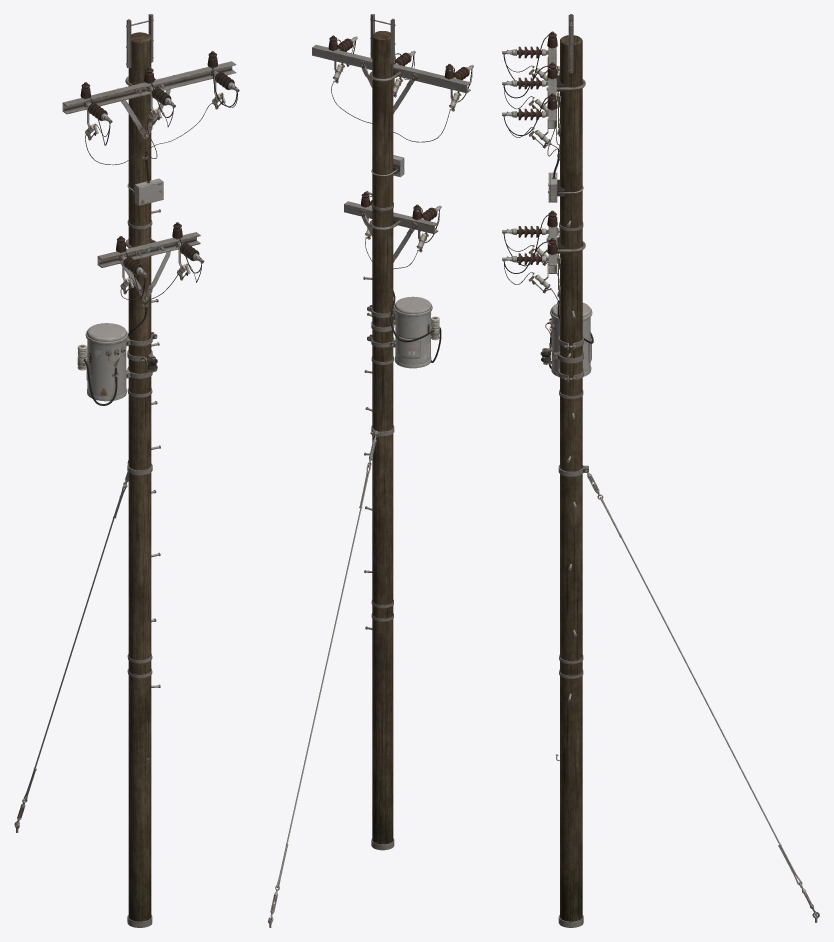
File: pole-transformer-double.glb
3 views of the same model, side by side, from view 1: azimuth 30°, elevation 25°; view 2: azimuth 150°, elevation 25°; view 3: azimuth 270°, elevation 25° (orthographic). The views are drawn at different scales.
Visible parts, largest first — view 1: preset_01_pole, preset_01_connection_large_02, preset_01_transformer_01, preset_01_connection_small_02, preset_01_fastener, preset_01_fuse_02, preset_01_transformer_02, preset_01_cap, preset_01_fuse_01; view 2: preset_01_pole, preset_01_transformer_01, preset_01_connection_large_02, preset_01_connection_small_02, preset_01_fastener, preset_01_fuse_02; view 3: preset_01_pole, preset_01_connection_large_02, preset_01_connection_small_02, preset_01_transformer_01, preset_01_fastener, preset_01_fuse_02.
Boxes of the visible parts, x1,y1,x2,y2 form: preset_01_pole: [128, 32, 151, 921]; preset_01_connection_large_02: [62, 51, 239, 145]; preset_01_transformer_01: [77, 302, 157, 405]; preset_01_connection_small_02: [97, 222, 204, 301]; preset_01_fastener: [14, 471, 128, 826]; preset_01_fuse_02: [85, 78, 237, 165]; preset_01_transformer_02: [127, 155, 163, 205]; preset_01_cap: [126, 14, 153, 67]; preset_01_fuse_01: [120, 249, 201, 304]; preset_01_pole: [372, 31, 393, 844]; preset_01_transformer_01: [367, 291, 441, 368]; preset_01_connection_large_02: [312, 35, 473, 113]; preset_01_connection_small_02: [344, 192, 441, 262]; preset_01_fastener: [268, 430, 377, 921]; preset_01_fuse_02: [331, 42, 472, 142]; preset_01_pole: [560, 35, 582, 921]; preset_01_connection_large_02: [502, 31, 585, 136]; preset_01_connection_small_02: [502, 210, 585, 298]; preset_01_transformer_01: [545, 300, 593, 382]; preset_01_fastener: [582, 466, 817, 916]; preset_01_fuse_02: [503, 55, 561, 160].
Size of the model in its own units: 1.2 by 6.13 by 1.96.
2 materials, 2 textured.
